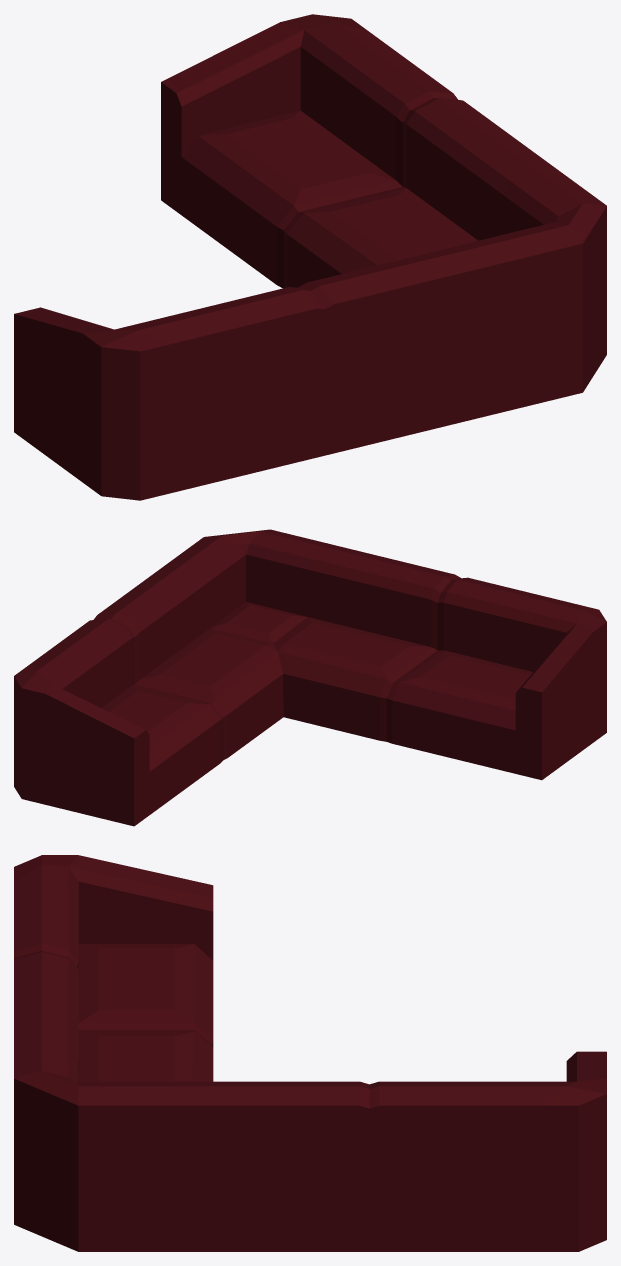
Rendered from Sofa_2.fbx.
3 renders of one model, top to bottom at view 1: azimuth 30°, elevation 25°; view 2: azimuth 150°, elevation 25°; view 3: azimuth 270°, elevation 25°, orthographic. The views are drawn at different scales.
Visible parts, largest first — view 1: Sofa_2; view 2: Sofa_2; view 3: Sofa_2.
Boxes of the visible parts, <box> form: Sofa_2: <box>14,14,606,500</box>; Sofa_2: <box>14,529,606,826</box>; Sofa_2: <box>14,855,606,1251</box>.
Size of the model in its own units: 375 by 107 by 375.
